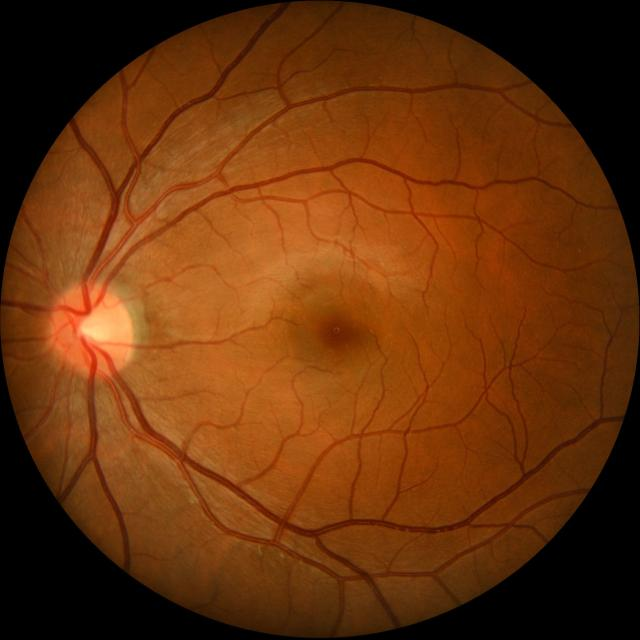OC: (77, 310, 113, 346)
OD: (50, 284, 134, 376)
